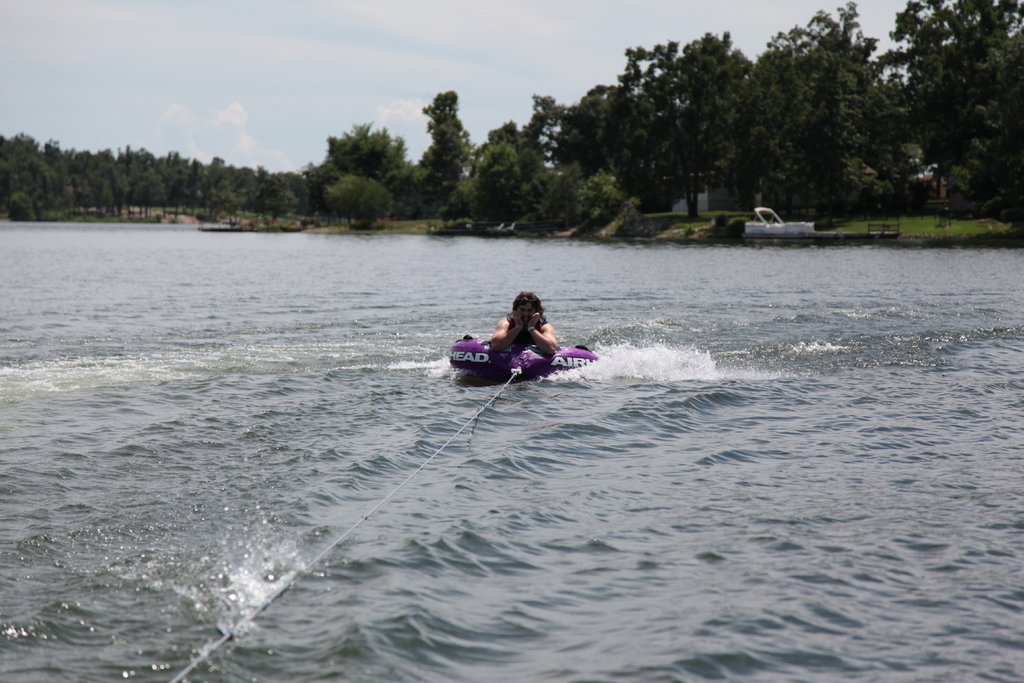Person: (491, 290, 557, 354)
